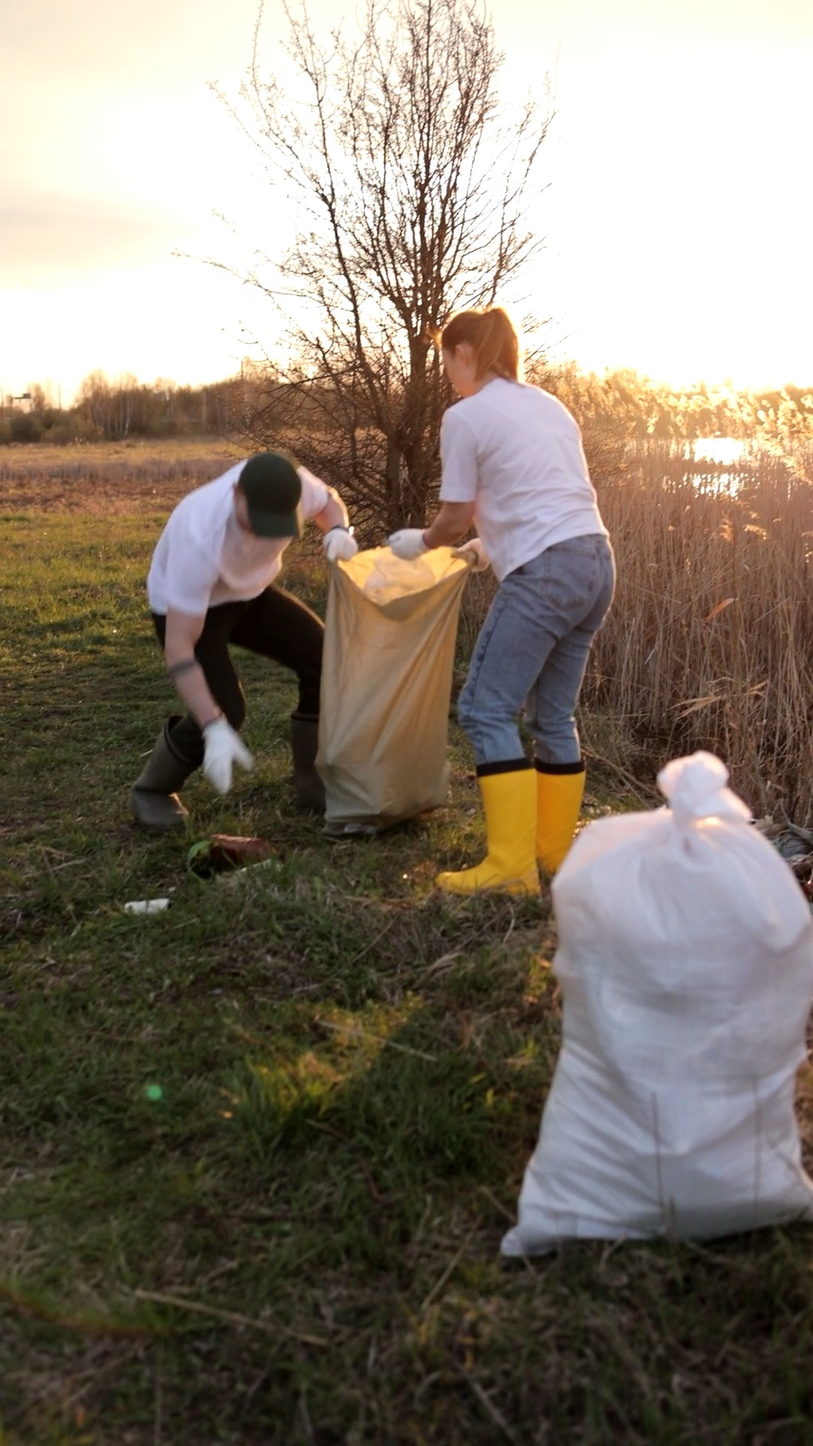gloves: (196, 714, 248, 806), (316, 520, 366, 565), (381, 523, 434, 562)
